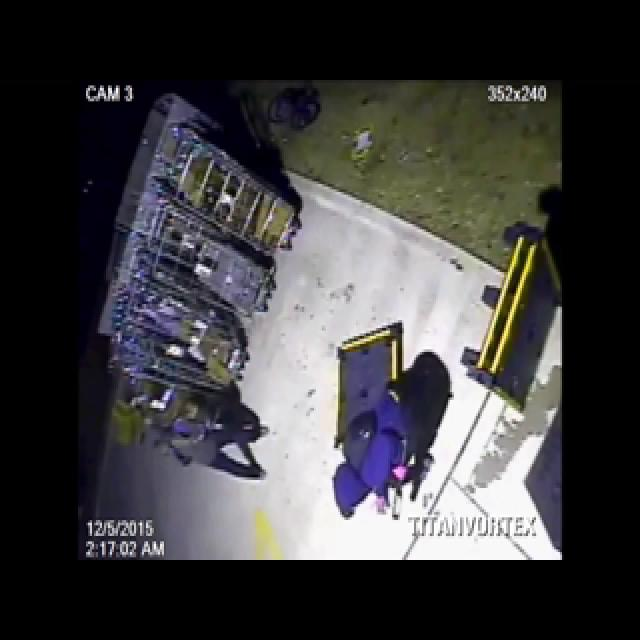vandalism: (336, 354, 434, 566)
